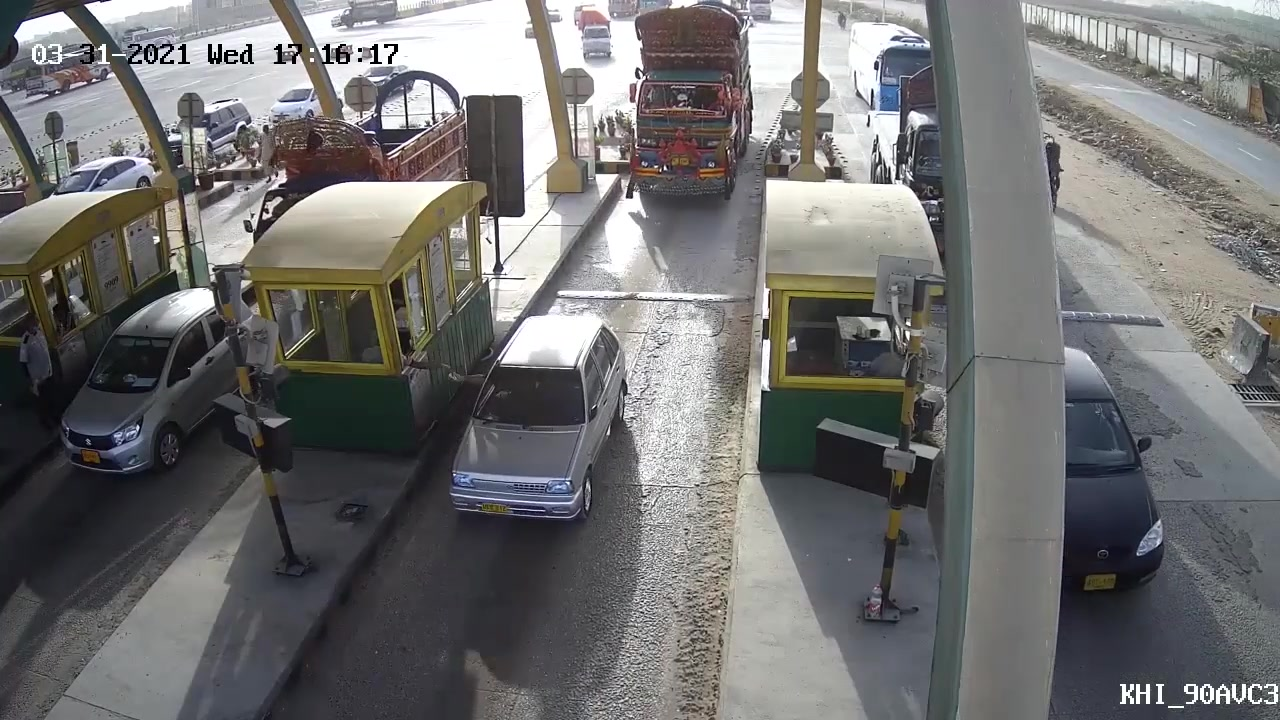F1: (440, 317, 633, 522)
F5: (625, 1, 757, 206)
